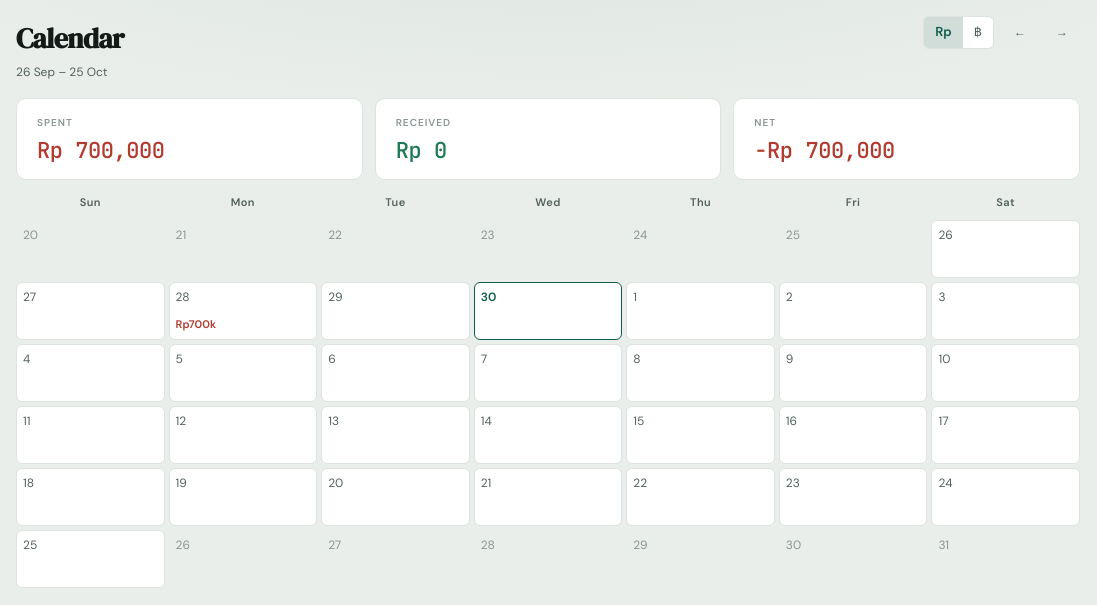
switches between IDR and THB
Expected: the text "Rp700k" is shown, [176,317,216,331]
Click the button "฿". click: (978, 32)
box: [963,17,993,48]
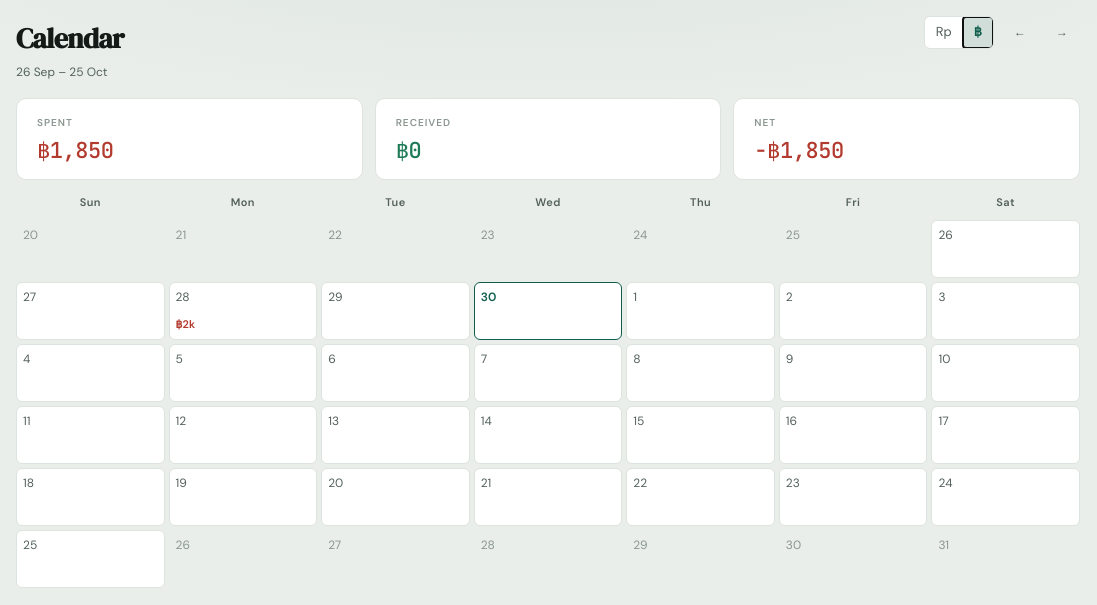
Now the text "฿2k" is shown, box [176,317,195,331]
Now the text "฿1,850" is shown, box [37,136,114,165]
Now the button "Rp700k" is gone
